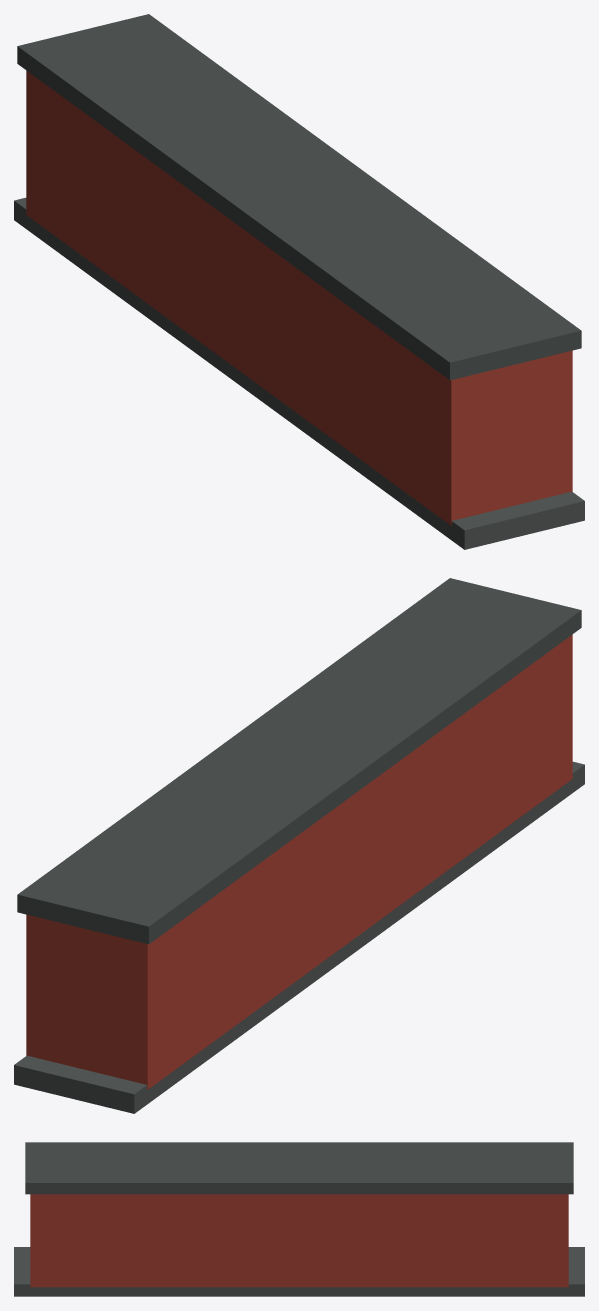
File: fjord-passenger-coach_lod1.glb
The picture shows the model from 3 angles, top to bottom: view 1: azimuth 30°, elevation 25°; view 2: azimuth 150°, elevation 25°; view 3: azimuth 270°, elevation 25°; orthographic projection. The views are drawn at different scales.
Parts seen in each view (by area): view 1: RF_Coach_Body, RF_Coach_Roof, RF_Coach_Chassis; view 2: RF_Coach_Body, RF_Coach_Roof, RF_Coach_Chassis; view 3: RF_Coach_Body, RF_Coach_Roof, RF_Coach_Chassis.
Boxes of the visible parts, box(x1,y1,x2,y2) form: RF_Coach_Body: box(26, 70, 572, 525); RF_Coach_Roof: box(17, 14, 581, 380); RF_Coach_Chassis: box(14, 197, 584, 549); RF_Coach_Body: box(26, 634, 572, 1089); RF_Coach_Roof: box(17, 578, 581, 944); RF_Coach_Chassis: box(14, 761, 584, 1113); RF_Coach_Body: box(30, 1194, 568, 1287); RF_Coach_Roof: box(25, 1142, 573, 1194); RF_Coach_Chassis: box(14, 1247, 584, 1296).
Size of the model in its own units: 2.95 by 3.9 by 17.5.
